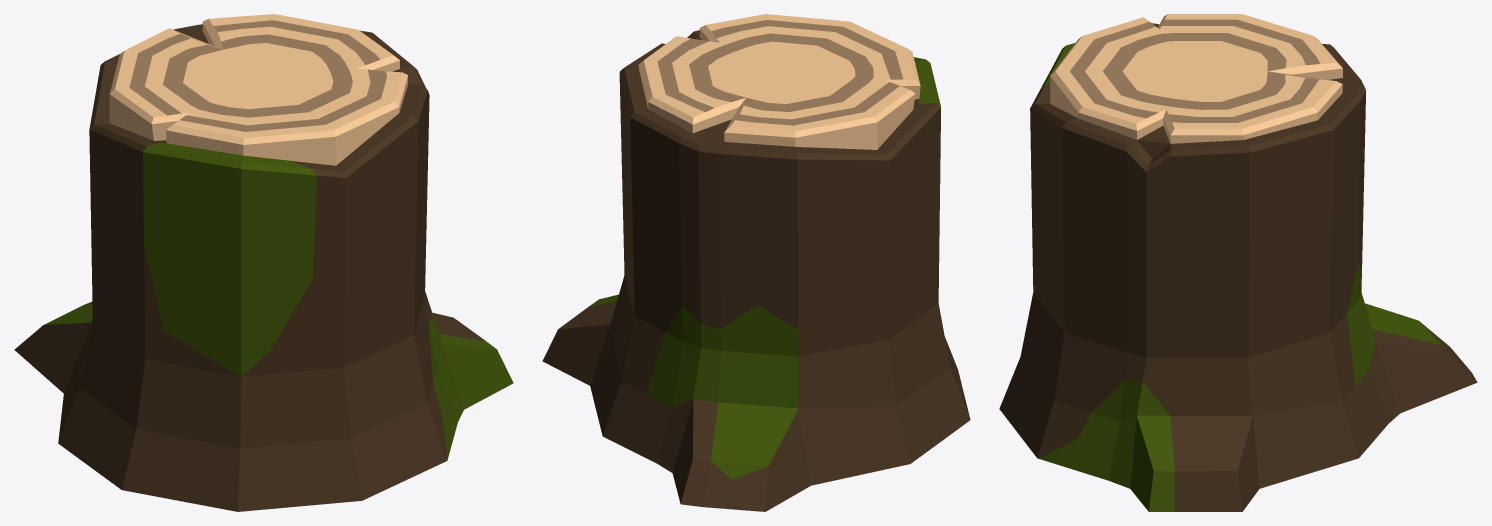
The model's file is Tree Stump 4.fbx.
3 renders of one model, left to right at view 1: azimuth 30°, elevation 25°; view 2: azimuth 150°, elevation 25°; view 3: azimuth 270°, elevation 25°, orthographic. The views are drawn at different scales.
Visible parts, largest first — view 1: Tree Stump Moss 2; view 2: Tree Stump Moss 2; view 3: Tree Stump Moss 2.
Part boxes in pixels (x1=…): Tree Stump Moss 2: x1=14, y1=14, x2=513, y2=511; Tree Stump Moss 2: x1=542, y1=14, x2=970, y2=511; Tree Stump Moss 2: x1=999, y1=14, x2=1477, y2=511.
Bounding box in the file's own units: 33.24 × 27.85 × 35.77.
